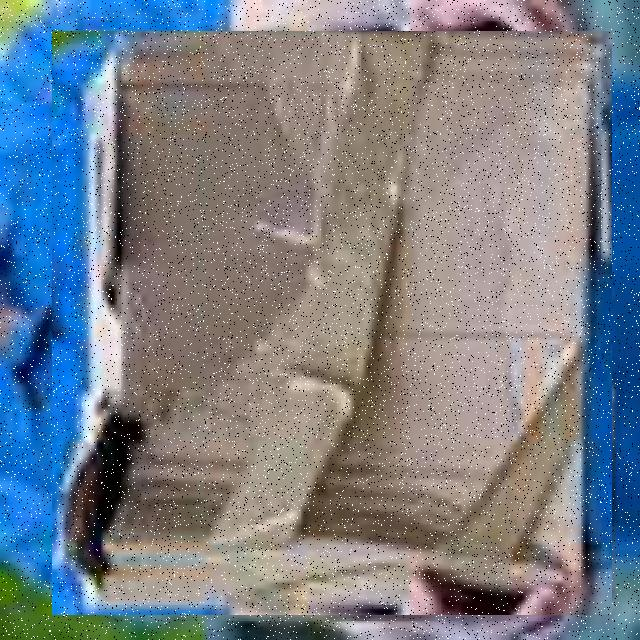defect: (52, 31, 612, 615)
